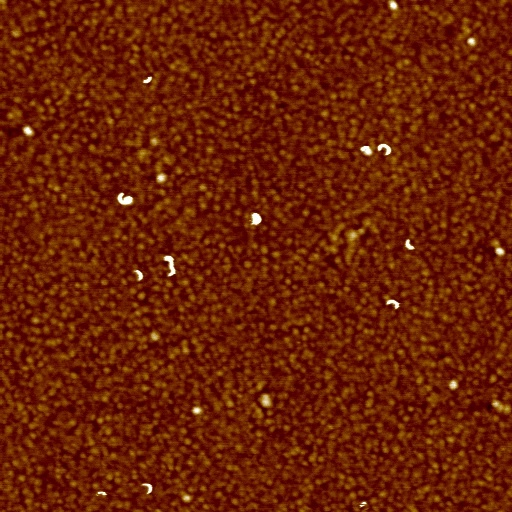-1: (163, 255, 179, 279), (21, 125, 36, 139), (358, 145, 373, 159), (251, 212, 262, 227), (449, 378, 460, 392), (493, 246, 507, 256), (191, 407, 203, 417), (387, 2, 398, 11), (467, 37, 475, 47)
1/4: (131, 267, 146, 282), (404, 238, 417, 253), (141, 74, 154, 86), (95, 488, 109, 499)
2/4: (385, 295, 401, 312), (141, 481, 154, 497)
3/4: (117, 193, 135, 209), (375, 142, 393, 157)
